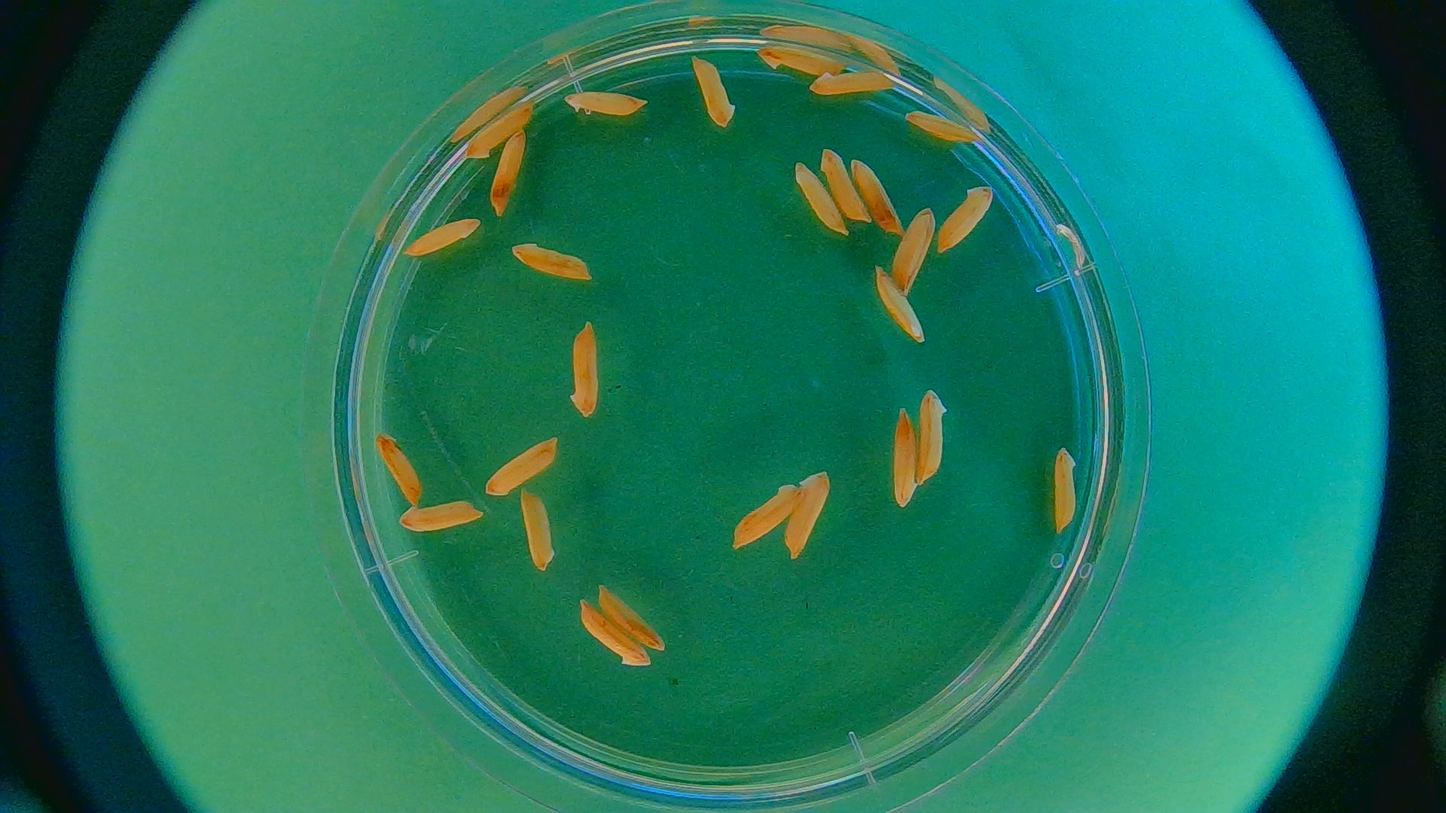no: (591, 577, 670, 658), (574, 598, 651, 672), (845, 152, 908, 237), (865, 263, 928, 343), (731, 482, 807, 547), (485, 437, 565, 497), (789, 159, 848, 237), (466, 98, 534, 165), (484, 125, 532, 219), (370, 429, 425, 510), (512, 485, 562, 572), (564, 318, 607, 419), (889, 205, 936, 296), (816, 145, 869, 224), (785, 468, 831, 559), (934, 183, 991, 254), (685, 53, 738, 126), (510, 239, 593, 285), (883, 401, 920, 503), (913, 388, 950, 486), (401, 215, 482, 259), (751, 42, 845, 77), (399, 495, 483, 533), (902, 108, 985, 145), (559, 86, 646, 121), (805, 66, 895, 99), (1047, 444, 1078, 533)
